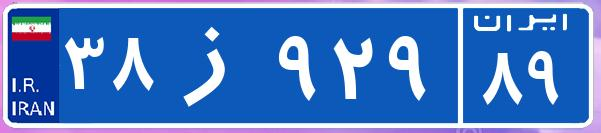2: (330, 28, 385, 110)
3: (57, 26, 110, 107)
8: (475, 38, 525, 113), (110, 28, 158, 105)
9: (385, 28, 445, 110), (273, 28, 330, 110), (525, 38, 570, 115)
ز: (158, 15, 273, 115)
